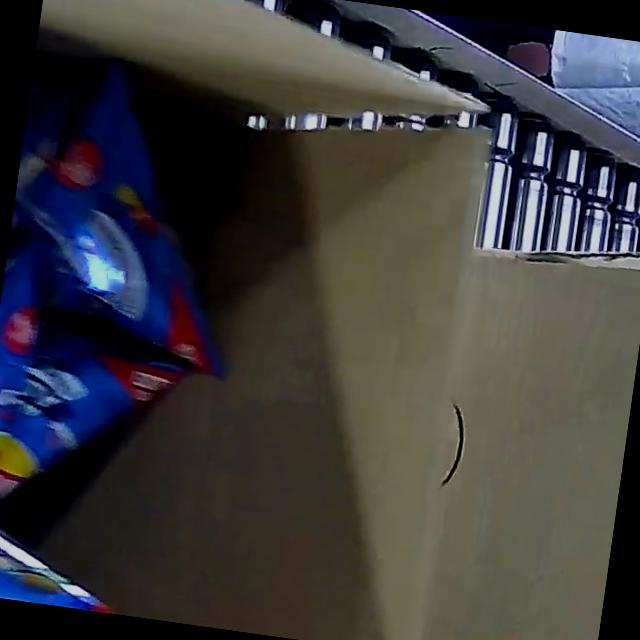paprika: (0, 31, 266, 624)
